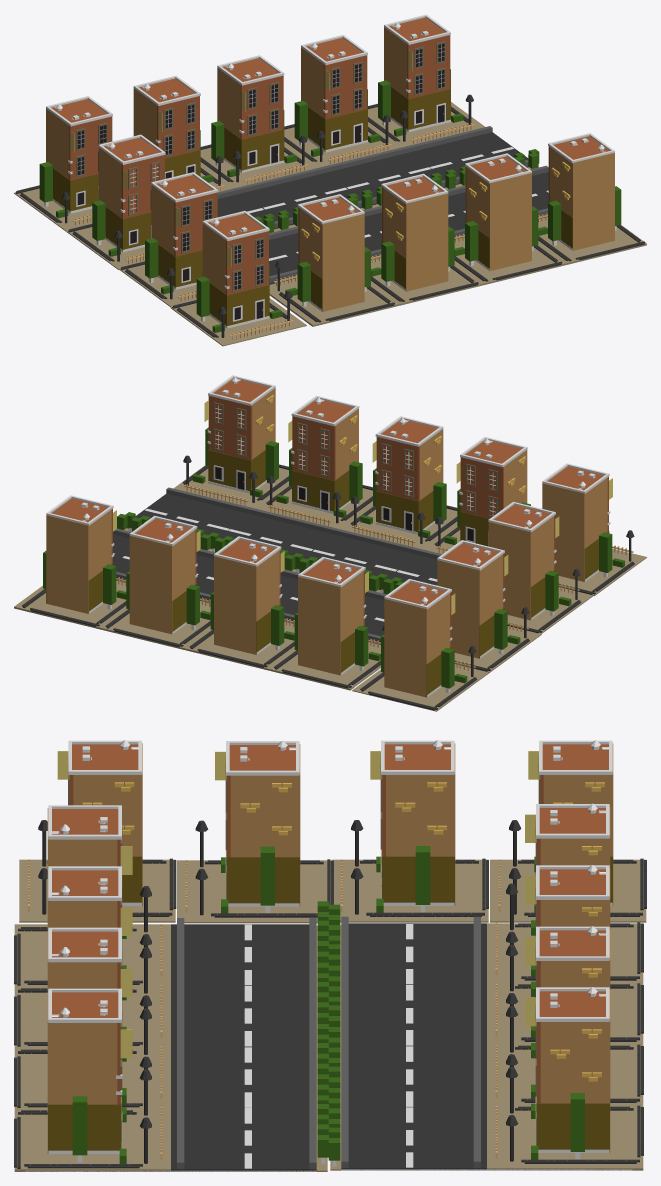
The model's file is KASABAGAMEJAM.fbx.
The picture shows the model from 3 angles, top to bottom: view 1: azimuth 30°, elevation 25°; view 2: azimuth 150°, elevation 25°; view 3: azimuth 270°, elevation 25°; orthographic projection. The views are drawn at different scales.
Parts seen in each view (by area): view 1: ButunEv.039, ButunEv.045, ButunEv.033, ButunEv.027, KZemin2.008, KZemin2.012, KZemin2.010, KZemin1.021, ButunEv.056, KZemin1.015, ButunEv.032, ButunEv.038 (+78 smaller); view 2: ButunEv.030, ButunEv.048, ButunEv.024, ButunEv.036, ButunEv.042, ButunEv.057, ButunEv.054, ButunEv.051, KZemin2.011, KZemin2.013, KZemin2.009, ButunEv.029 (+77 smaller); view 3: KZemin2.008, KZemin2.009, KZemin2.013, KZemin2.014, KZemin2.015, KZemin2.012, KZemin2.011, KZemin2.010, ButunEv.027, ButunEv.051, ButunEv.024, ButunEv.054 (+65 smaller).
Boxes of the visible parts, box(x1,y1,x2,y2) form: ButunEv.039: box(383, 188, 448, 291); ButunEv.045: box(299, 208, 364, 311); ButunEv.033: box(466, 167, 531, 270); ButunEv.027: box(550, 147, 614, 250); KZemin2.008: box(409, 132, 528, 184); KZemin2.012: box(242, 173, 362, 225); KZemin2.010: box(326, 152, 445, 205); KZemin1.021: box(170, 298, 306, 346); ButunEv.056: box(121, 155, 164, 218); KZemin1.015: box(269, 278, 396, 325); ButunEv.032: box(324, 55, 367, 119); ButunEv.038: box(240, 75, 283, 139); ButunEv.030: box(129, 530, 195, 634); ButunEv.048: box(384, 593, 449, 697); ButunEv.024: box(46, 509, 111, 613); ButunEv.036: box(214, 550, 279, 654); ButunEv.042: box(298, 571, 363, 675); ButunEv.057: box(542, 478, 607, 581); ButunEv.054: box(437, 554, 502, 658); ButunEv.051: box(488, 516, 553, 620); KZemin2.011: box(210, 514, 333, 556); KZemin2.013: box(295, 534, 417, 576); KZemin2.009: box(127, 493, 249, 535); ButunEv.029: box(208, 396, 252, 460); KZemin2.008: box(341, 1106, 486, 1169); KZemin2.009: box(171, 1108, 316, 1170); KZemin2.013: box(171, 985, 309, 1047); KZemin2.014: box(348, 923, 486, 984); KZemin2.015: box(171, 924, 309, 985); KZemin2.012: box(348, 984, 486, 1045); KZemin2.011: box(171, 1047, 309, 1108); KZemin2.010: box(348, 1046, 486, 1106); ButunEv.027: box(47, 991, 117, 1153); ButunEv.051: box(230, 744, 300, 906); ButunEv.024: box(540, 990, 610, 1152); ButunEv.054: box(386, 743, 455, 905).
Size of the model in its own units: 20127 by 4328 by 17395.
